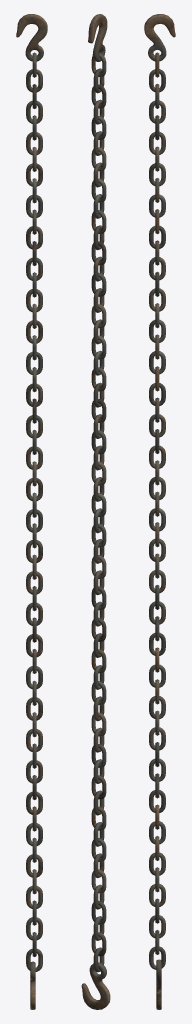
The model's file is railing_000.glb.
3 views of the same model, side by side, from view 1: azimuth 90°, elevation 25°; view 2: azimuth 150°, elevation 25°; view 3: azimuth 270°, elevation 25° (orthographic).
Parts seen in each view (by area): view 1: Building_12_046; view 2: Building_12_046; view 3: Building_12_046.
Part boxes in pixels (bbox=[...]): Building_12_046: bbox=[16, 14, 47, 1009]; Building_12_046: bbox=[81, 14, 110, 1009]; Building_12_046: bbox=[144, 14, 175, 1009].
Bounding box in the file's own units: 0.0288 × 1 × 0.0288.
1 material, 1 textured.
